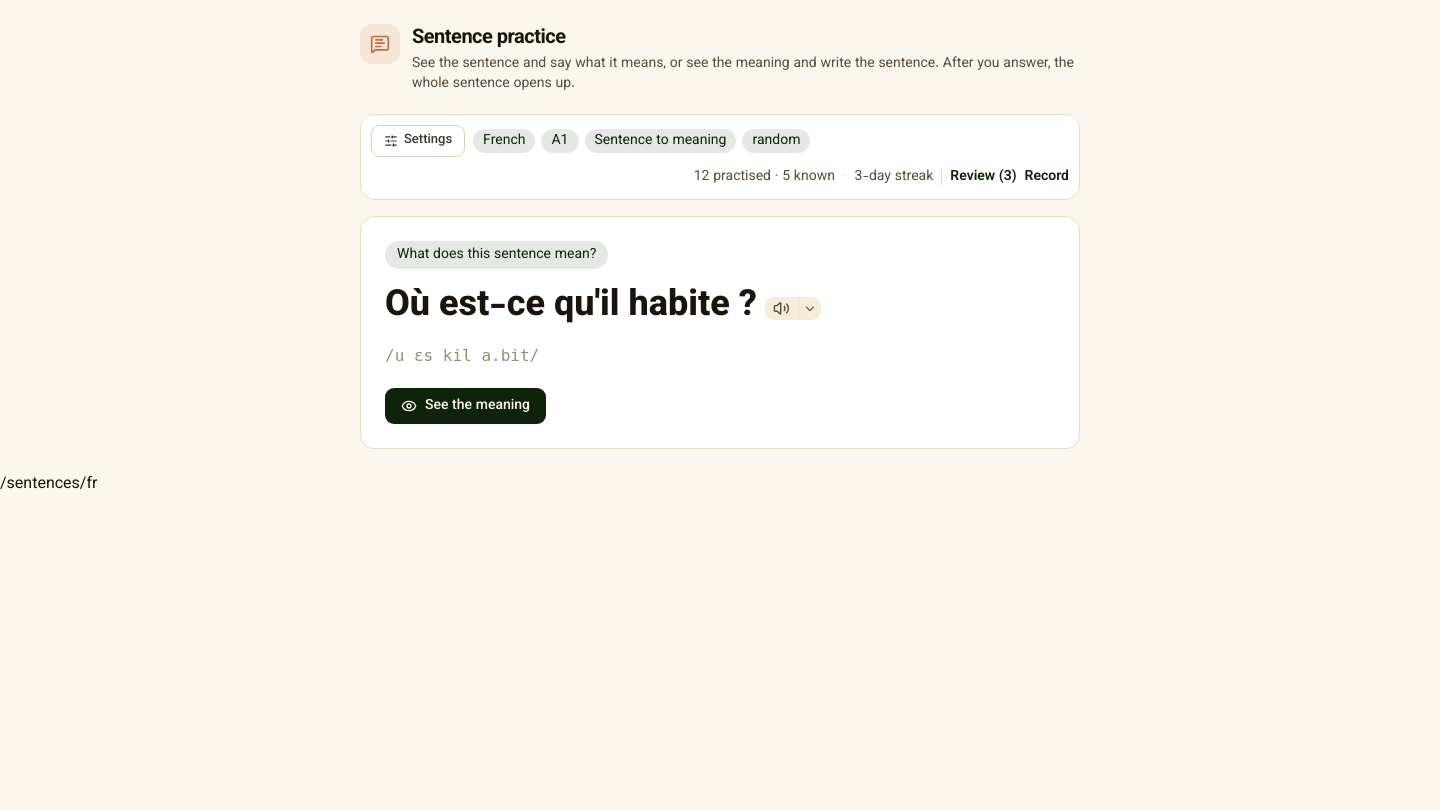
settings › the language row is a navigation
The width and height of the screenshot is (1440, 810).
Expected: the element with test id "prompt" is shown, [360,216,1080,448]
Click the button with test id "settings-open" at (418, 141), box [371,125,465,157]
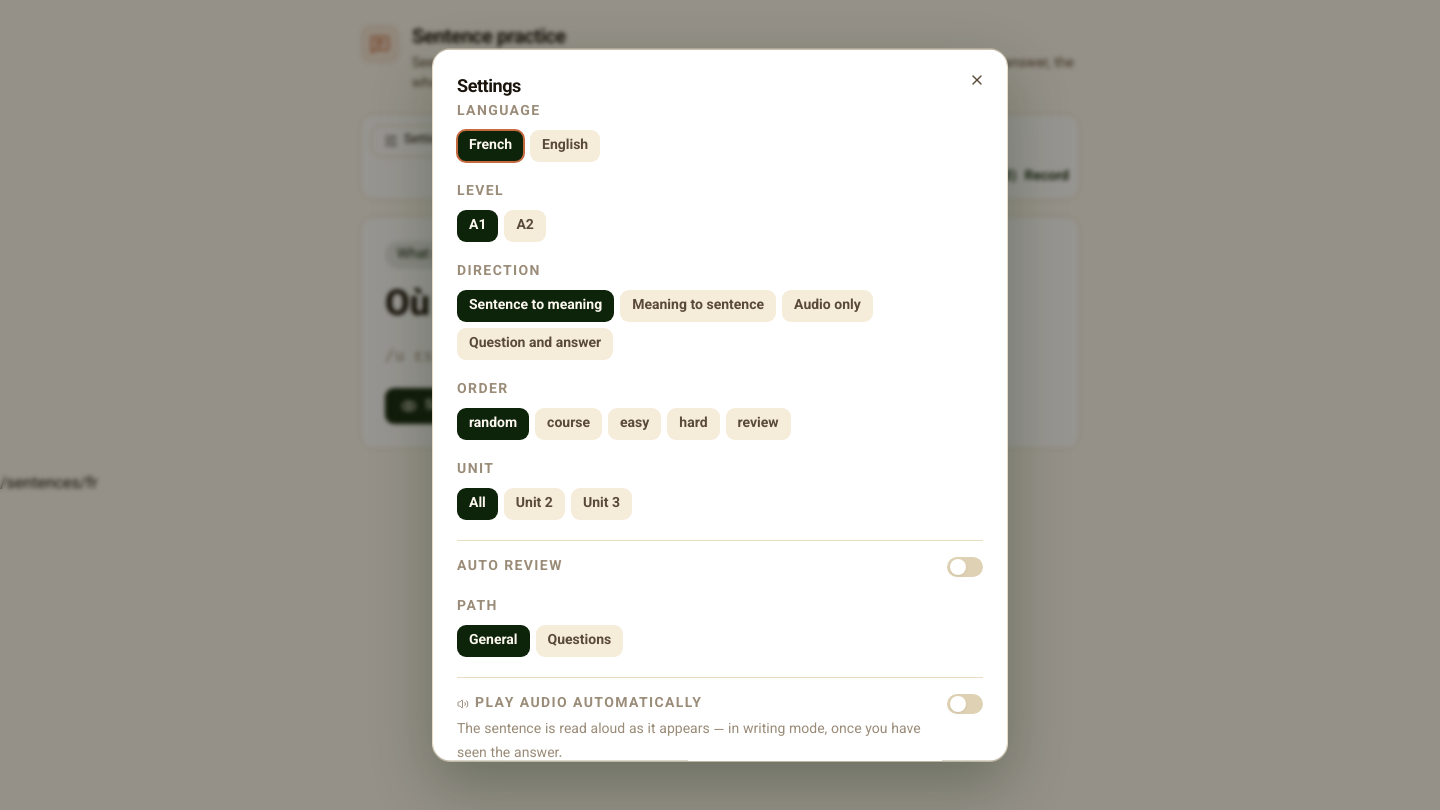
Click the button with test id "pick-lang-en" at (565, 146), box [530,130,600,162]
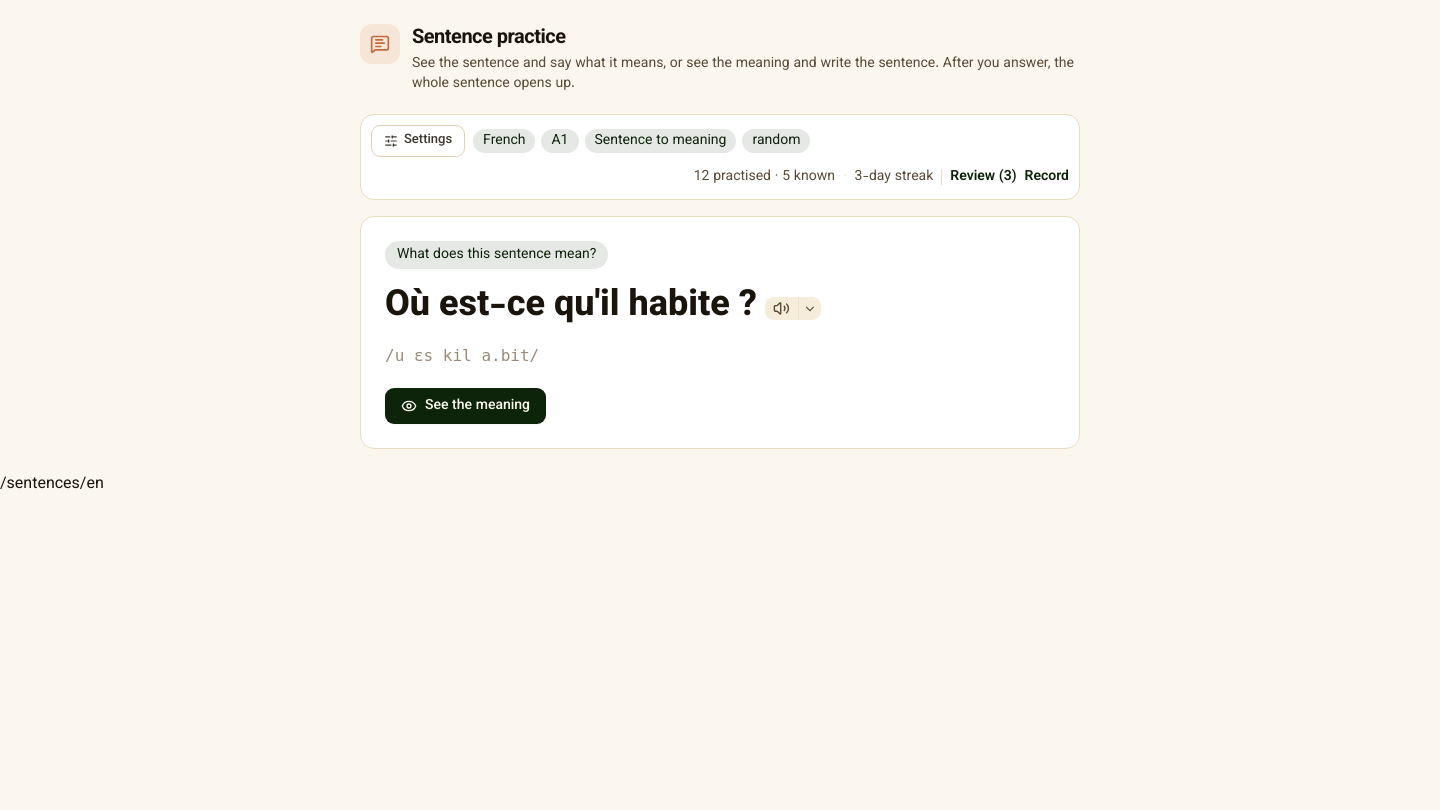
Expected: the text with test id "where" reads "/sentences/en", [0,472,104,496]
